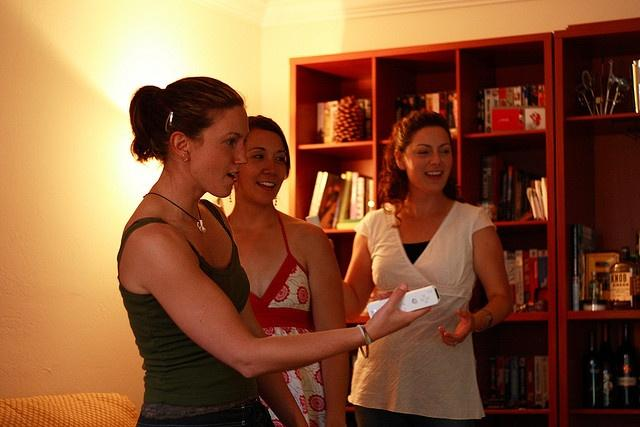Rak: (456, 30, 554, 426), (554, 22, 639, 426)
